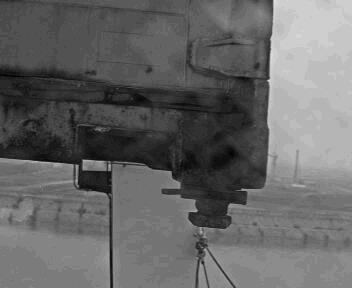twist_lock_1: (174, 183, 250, 229)
